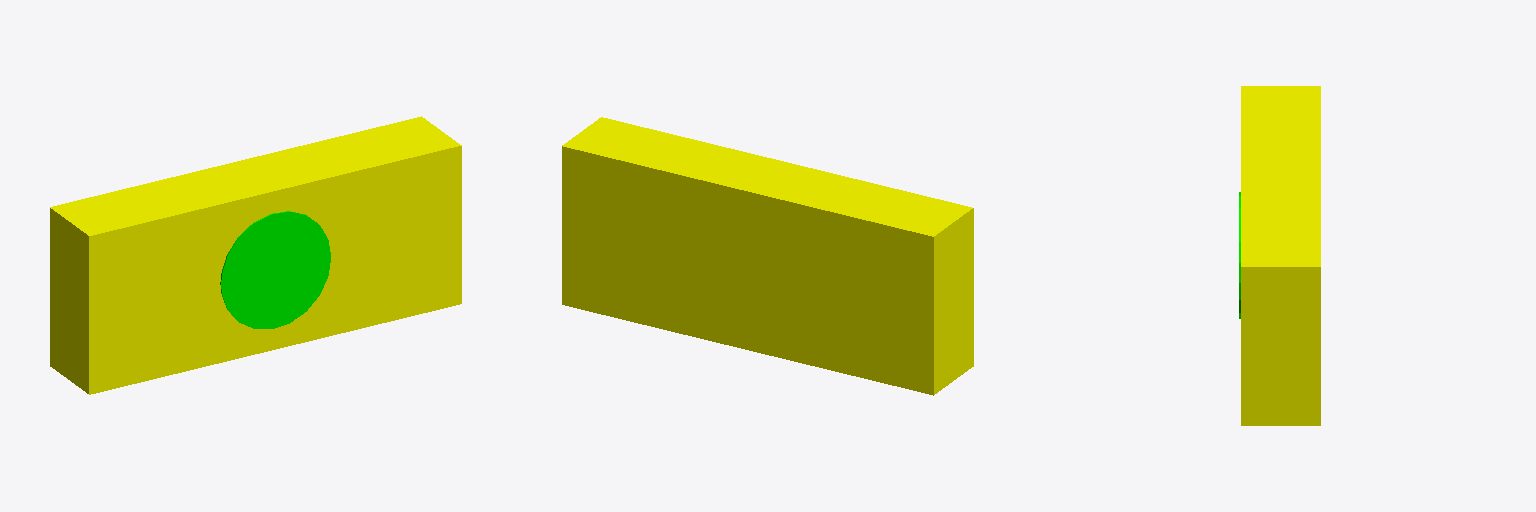
File: CalibrationDomino_Model.obj
3 views of the same model, side by side, from view 1: azimuth 30°, elevation 25°; view 2: azimuth 150°, elevation 25°; view 3: azimuth 270°, elevation 25° (orthographic).
Bounding box in the file's own units: 54 × 22 × 10.2.